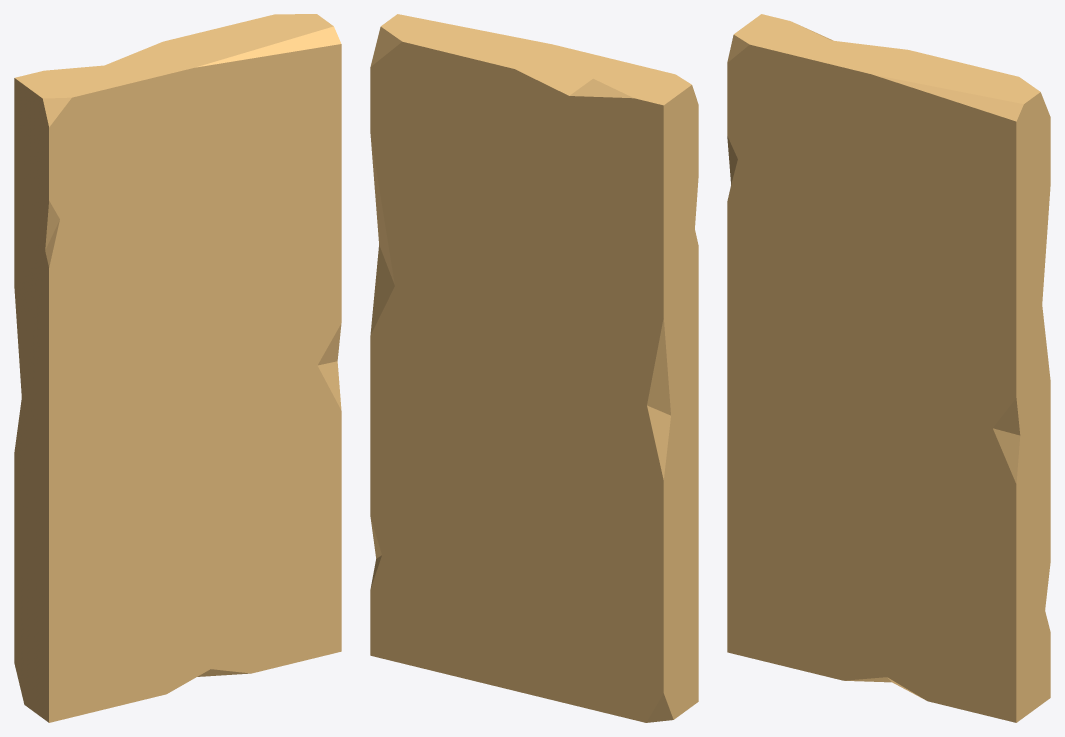
3 views of the same model, side by side, from view 1: azimuth 30°, elevation 25°; view 2: azimuth 150°, elevation 25°; view 3: azimuth 330°, elevation 25° (orthographic).
Visible parts, largest first — view 1: Box001; view 2: Box001; view 3: Box001.
Boxes of the visible parts, left/top/right/bottom form: Box001: left=14, top=14, right=341, bottom=722; Box001: left=370, top=14, right=698, bottom=722; Box001: left=727, top=14, right=1050, bottom=722.
Size of the model in its own units: 12.13 by 24.57 by 2.49.
1 material, 1 textured.
